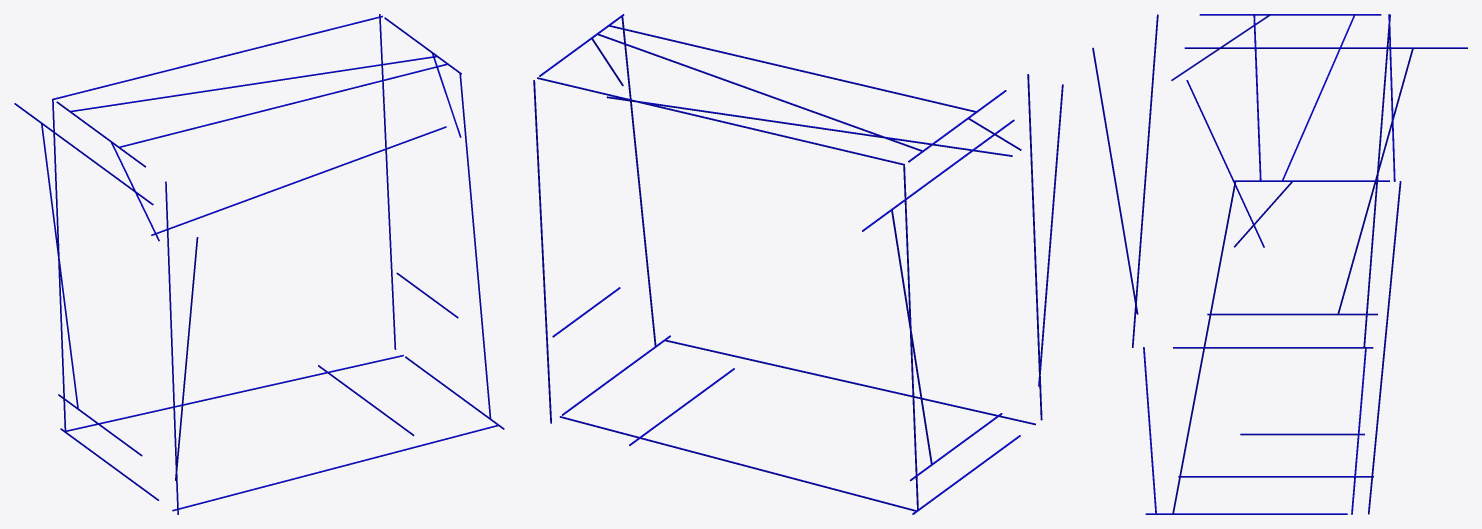
Rendered from corrected_3d_strokes.glb.
The picture shows the model from 3 angles, left to right: view 1: azimuth 30°, elevation 25°; view 2: azimuth 150°, elevation 25°; view 3: azimuth 270°, elevation 25°; orthographic projection. The views are drawn at different scales.
Parts seen in each view (by area): view 1: world; view 2: world; view 3: world.
Boxes of the visible parts, left/top/right/bottom form: world: left=14, top=14, right=504, bottom=514; world: left=533, top=14, right=1063, bottom=514; world: left=1092, top=14, right=1467, bottom=514.
Bounding box in the file's own units: 8.93 × 8.33 × 8.48.
